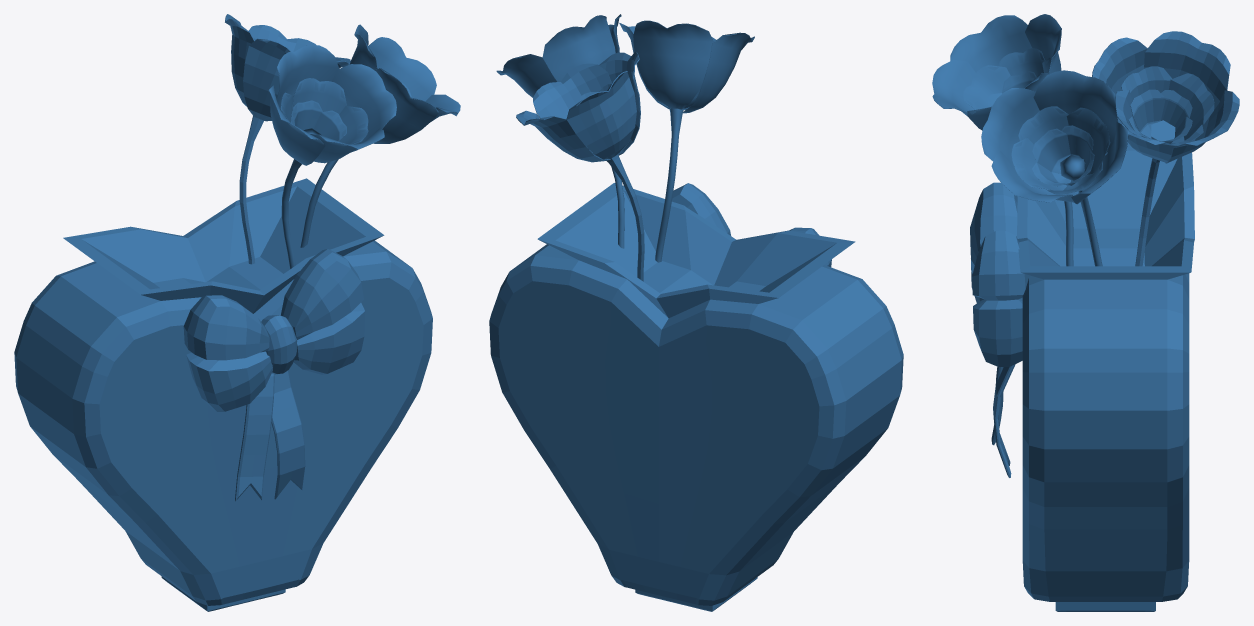
The model's file is Mesh_Florero_v02.fbx.
The picture shows the model from 3 angles, left to right: view 1: azimuth 30°, elevation 25°; view 2: azimuth 150°, elevation 25°; view 3: azimuth 270°, elevation 25°; orthographic projection. The views are drawn at different scales.
Parts seen in each view (by area): view 1: Mesh_FlorRosa_v003; view 2: Mesh_FlorRosa_v003; view 3: Mesh_FlorRosa_v003.
Part boxes in pixels (x1=…): Mesh_FlorRosa_v003: x1=14, y1=14, x2=460, y2=611; Mesh_FlorRosa_v003: x1=489, y1=14, x2=903, y2=611; Mesh_FlorRosa_v003: x1=932, y1=14, x2=1239, y2=611.
Bounding box in the file's own units: 1.44 × 1.94 × 0.9071.
